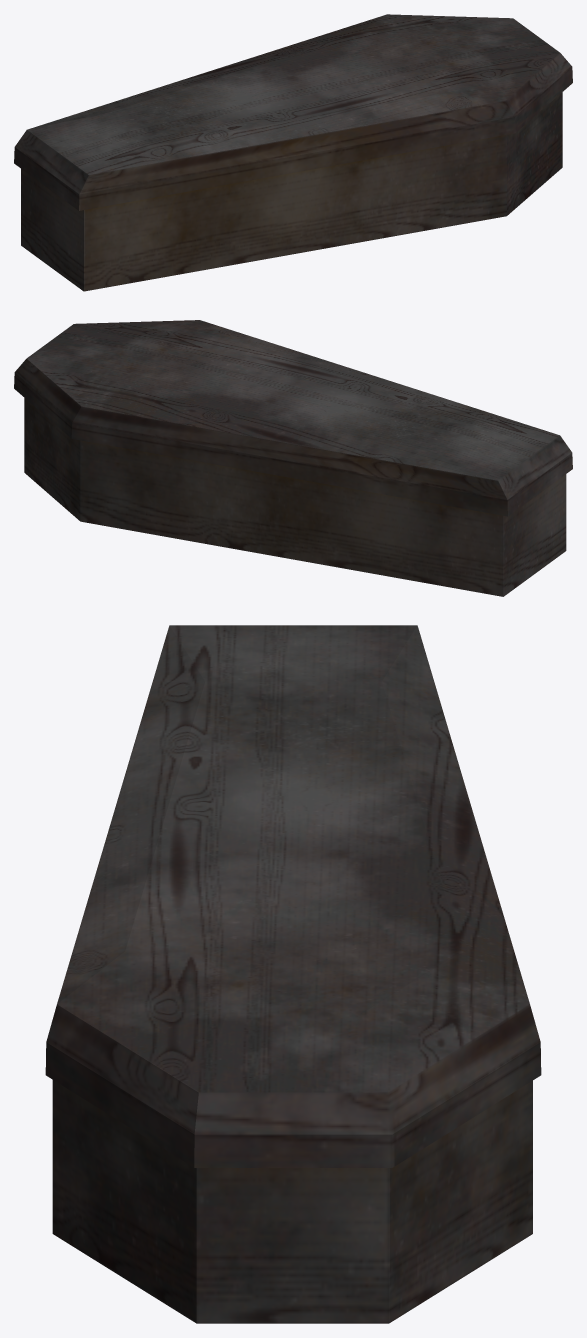
The model's file is coffin2.fbx.
3 views of the same model, one above another, from view 1: azimuth 30°, elevation 25°; view 2: azimuth 150°, elevation 25°; view 3: azimuth 270°, elevation 25° (orthographic). The views are drawn at different scales.
Parts seen in each view (by area): view 1: coffin_02; view 2: coffin_02; view 3: coffin_02.
Boxes of the visible parts, x1,y1,x2,y2 form: coffin_02: [14, 14, 572, 291]; coffin_02: [14, 320, 572, 596]; coffin_02: [45, 625, 541, 1323].
Size of the model in its own units: 156 by 35.62 by 66.59.
Materials: 1 (1 with a texture image).
